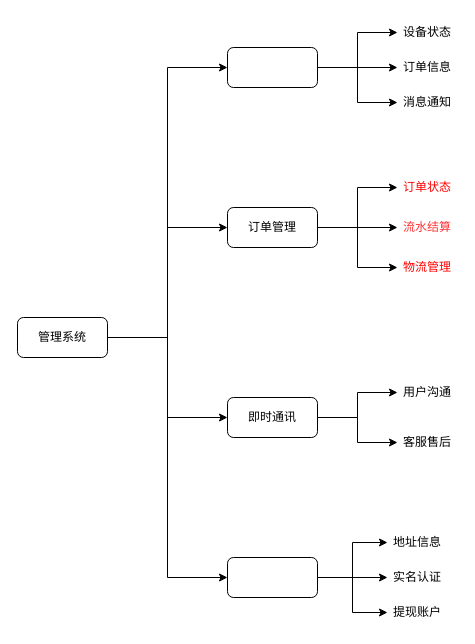
Image size: 475x644. Some labels were removed from this diagram. The centre of each missing label's shape, as x and y in pixels:
"用户信息管理" belongs at point (272, 577).
"通知管理" belongs at point (272, 67).
